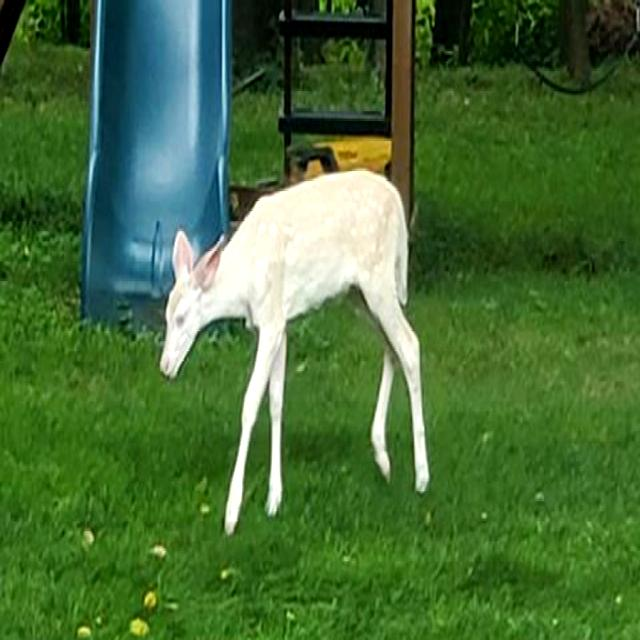deer: (154, 203, 430, 468)
